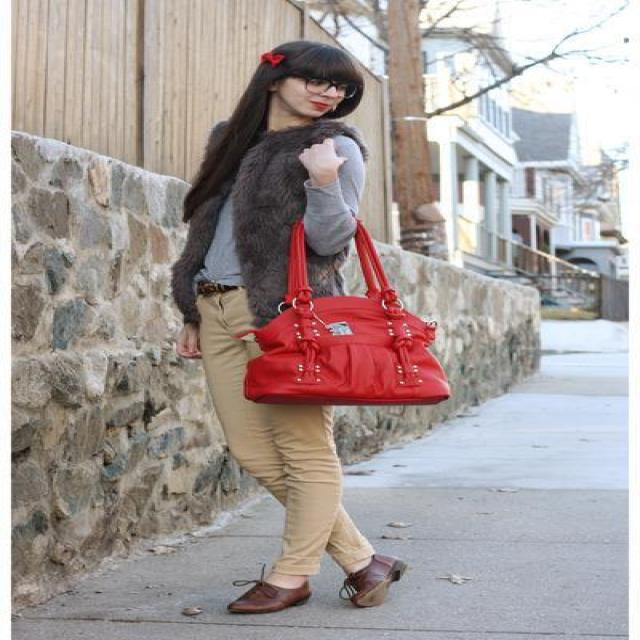bag: (243, 221, 448, 413)
pants: (178, 294, 354, 572)
shirt: (200, 136, 362, 294)
shoe: (227, 555, 405, 614)
